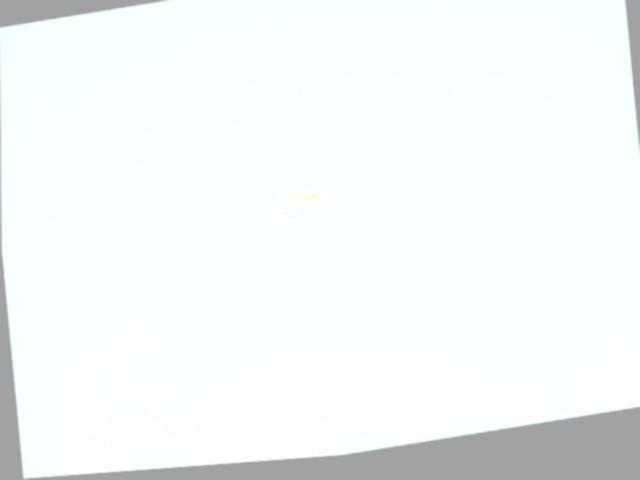iha: (274, 179, 337, 230)
